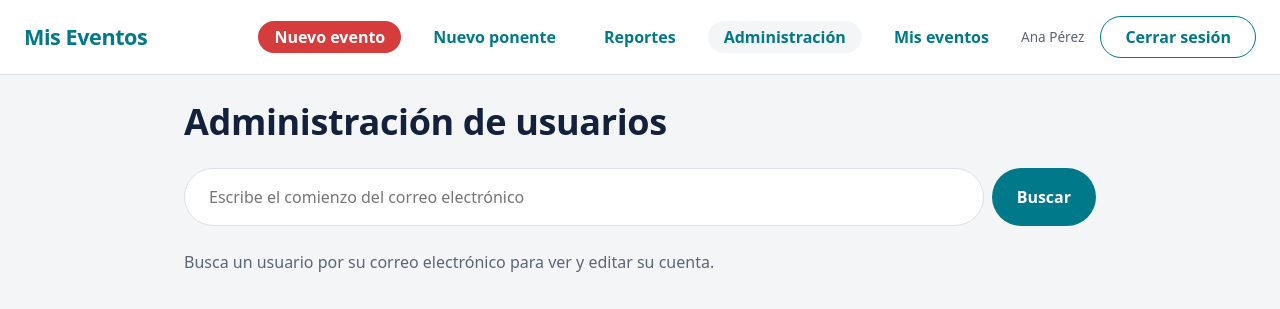
Test case: AdminUsersPage search › shows the backend message when the search fails
The width and height of the screenshot is (1280, 309).
Type "b" into the search field named "Correo electrónico del usuario" at (584, 197), box x1=184 y1=168 x2=984 y2=226
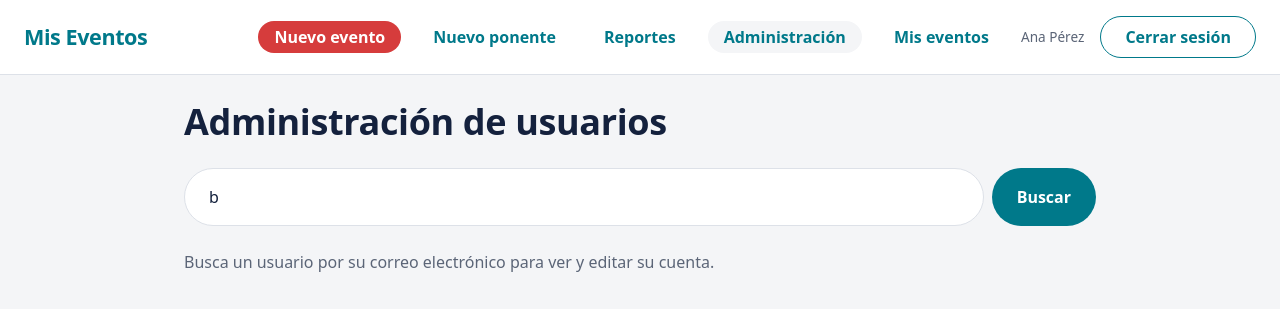
Click the button "Buscar" at (1044, 197), box x1=992 y1=168 x2=1096 y2=226
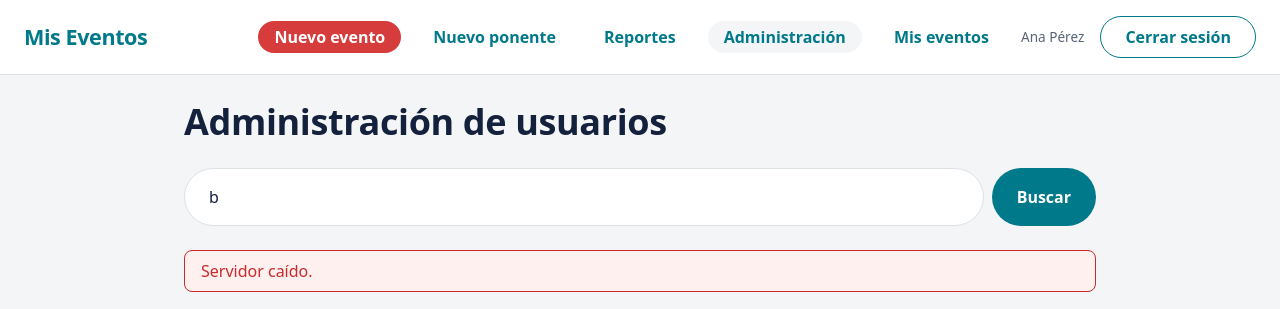
Expected: the message reads "Servidor caído.", x1=201 y1=260 x2=313 y2=282
